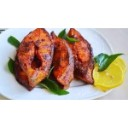seerfish: (15, 27, 53, 89), (67, 26, 95, 82), (49, 30, 75, 88)
